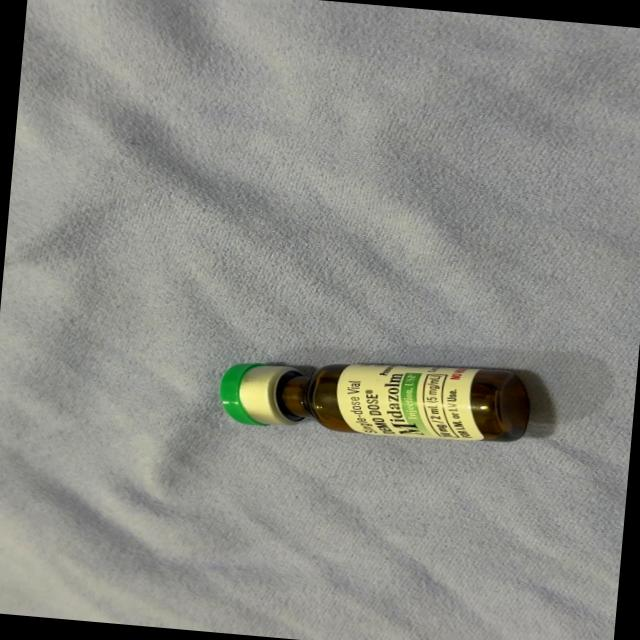midazolm: (222, 346, 528, 446)
